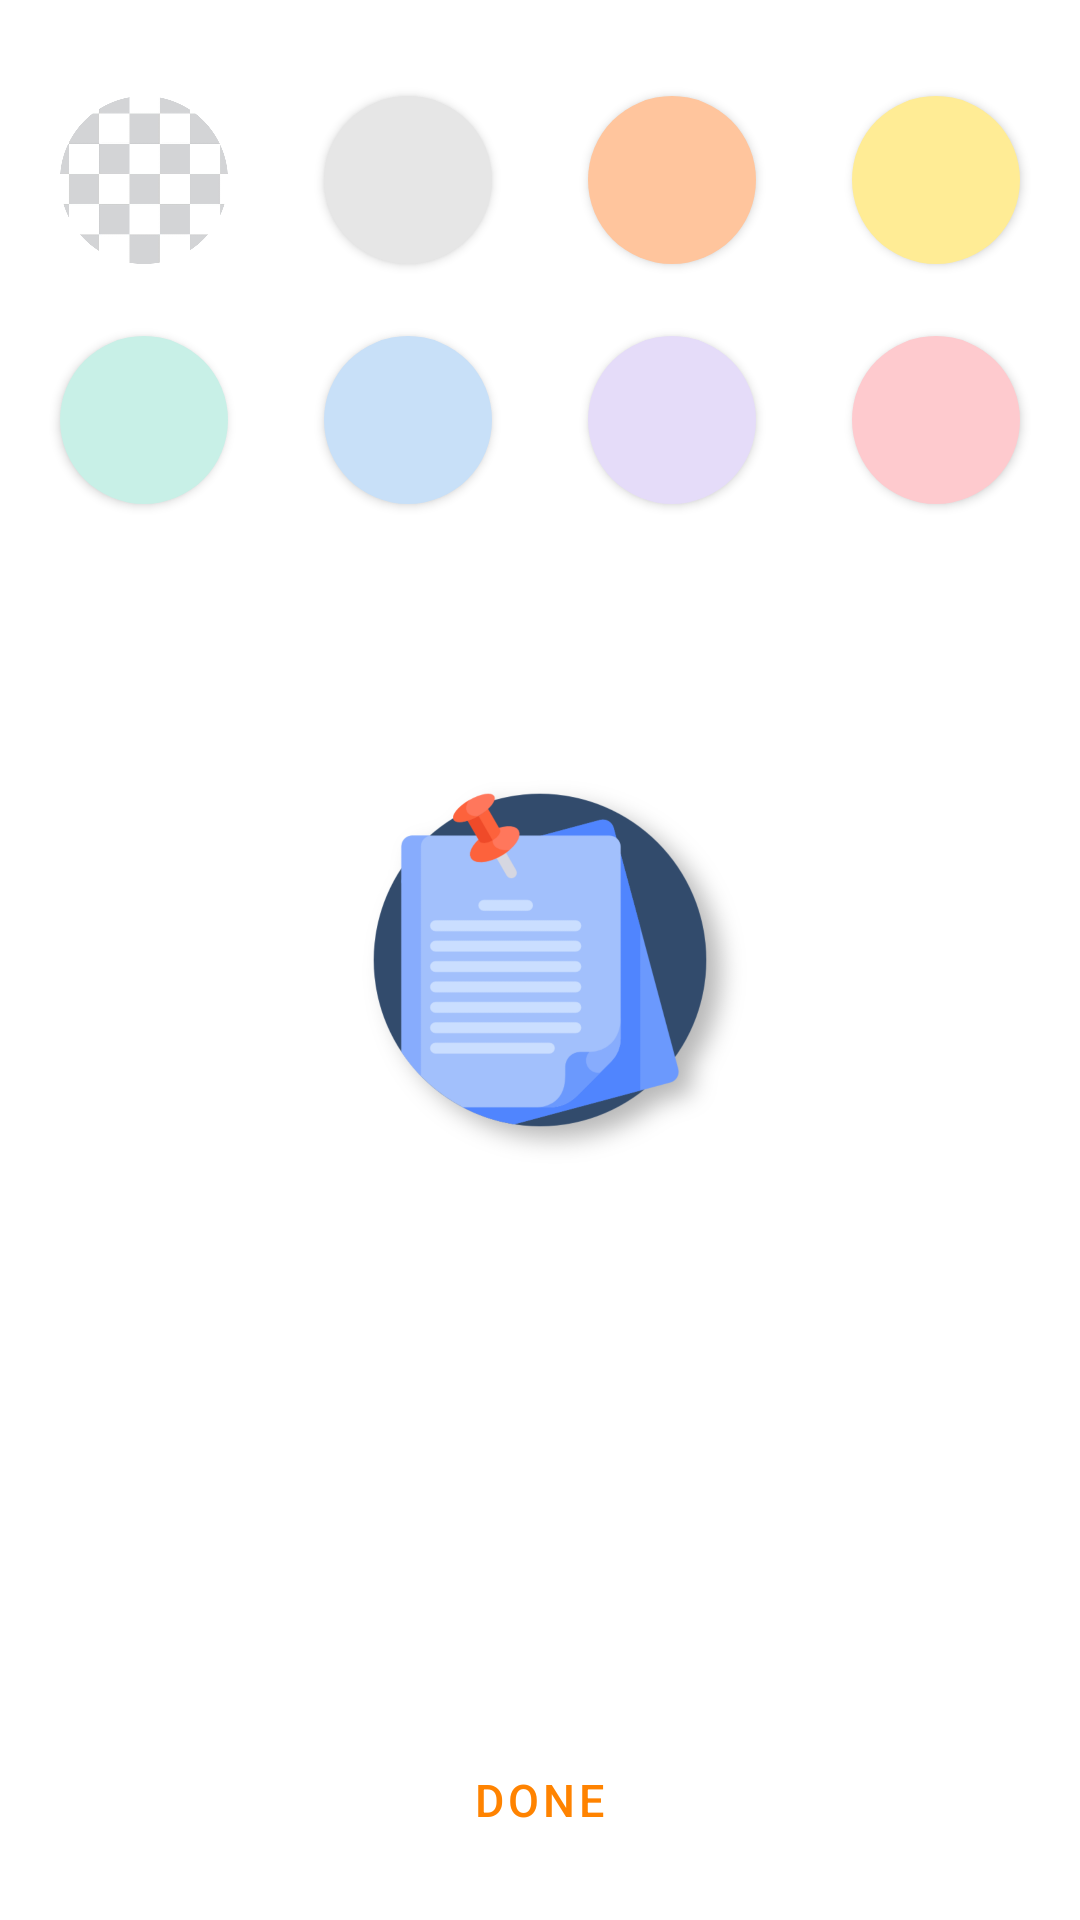

Named icons in this screenshot (1080 × 1920) and their centers, (x=x, y=y):
circletransparent: (x=144, y=180)
